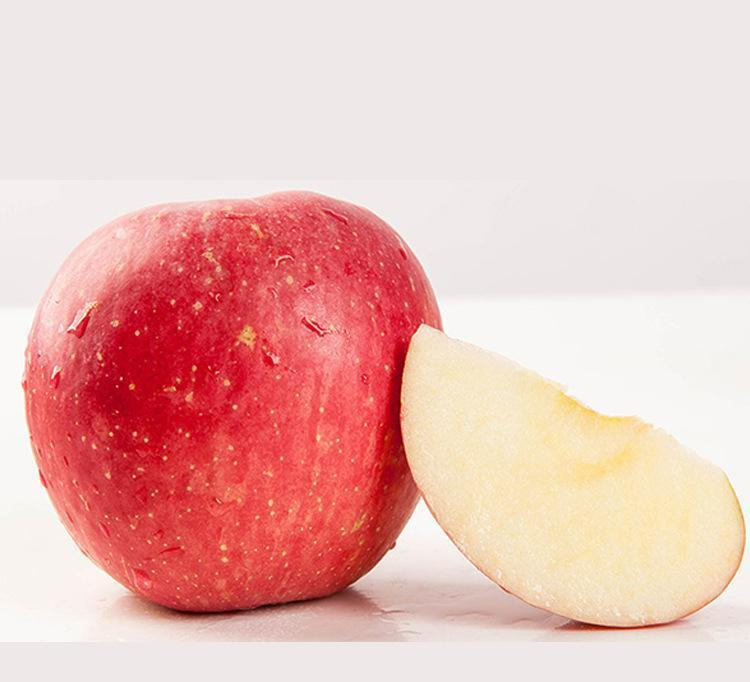apple: (18, 185, 446, 608)
